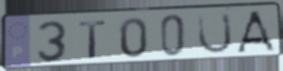0: (118, 15, 151, 60), (158, 13, 190, 59)
3: (35, 19, 70, 64)
A: (235, 9, 278, 54)
T: (77, 18, 109, 60)
U: (196, 11, 234, 56)
